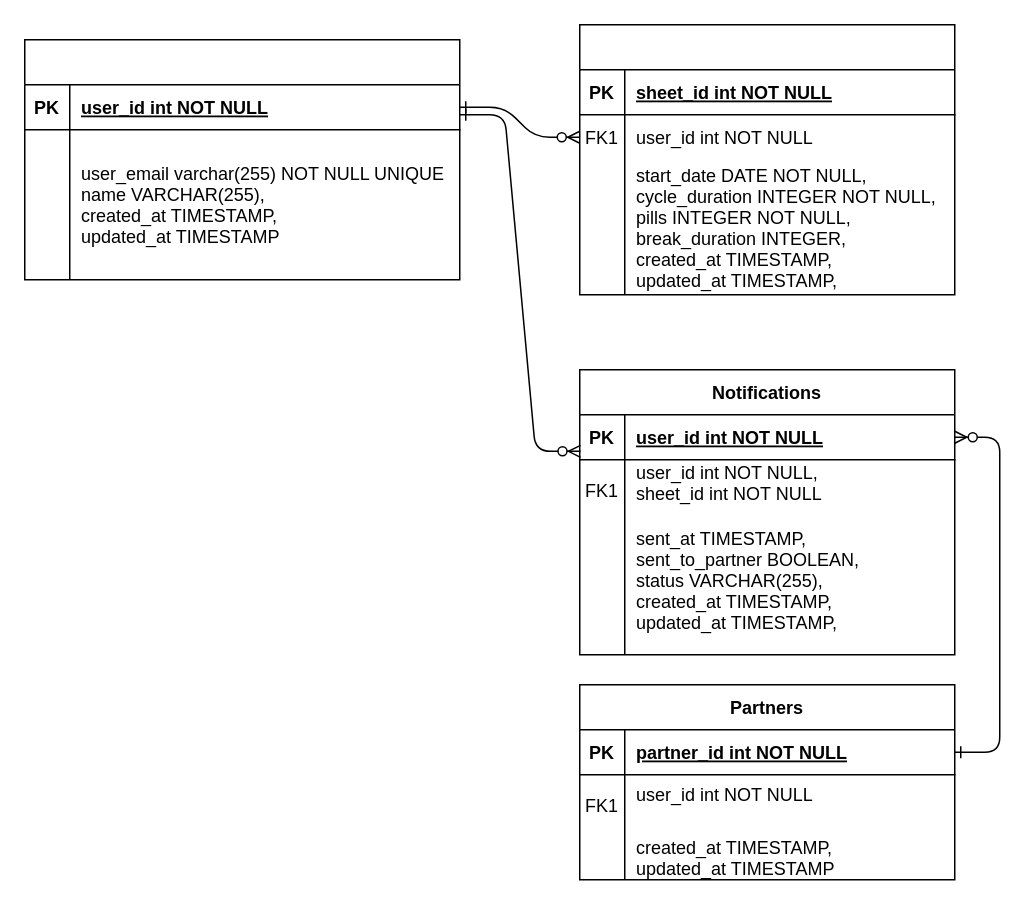
Image size: 1025x905. Some labels were removed from this diagram. Each missing label, with the box of its shape:
Sheets: (578, 23, 955, 295)
Users: (23, 38, 460, 280)
